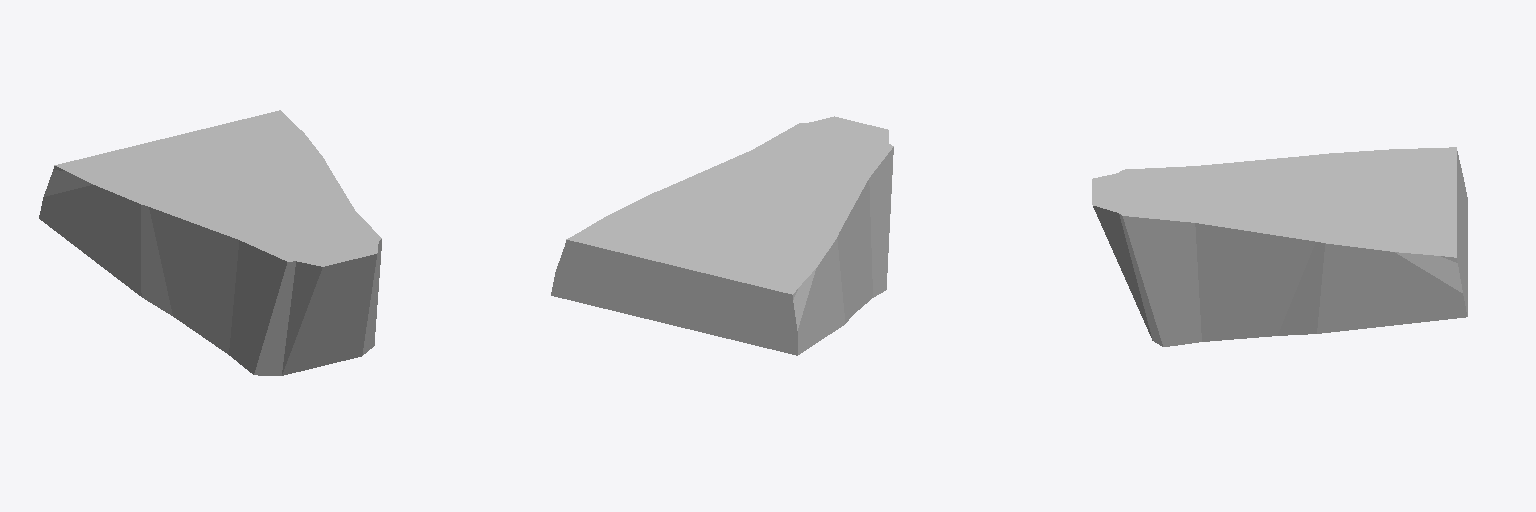
The model's file is collisiontempshiphull3.obj.
3 renders of one model, left to right at view 1: azimuth 30°, elevation 25°; view 2: azimuth 150°, elevation 25°; view 3: azimuth 270°, elevation 25°, orthographic.
Parts seen in each view (by area): view 1: col.tempshiphull3Collision.000_Cube.026; view 2: col.tempshiphull3Collision.000_Cube.026; view 3: col.tempshiphull3Collision.000_Cube.026.
Part boxes in pixels (bbox=[...]): col.tempshiphull3Collision.000_Cube.026: bbox=[39, 110, 381, 375]; col.tempshiphull3Collision.000_Cube.026: bbox=[551, 116, 893, 355]; col.tempshiphull3Collision.000_Cube.026: bbox=[1092, 147, 1467, 346].
Size of the model in its own units: 3.15 by 1.57 by 4.15.